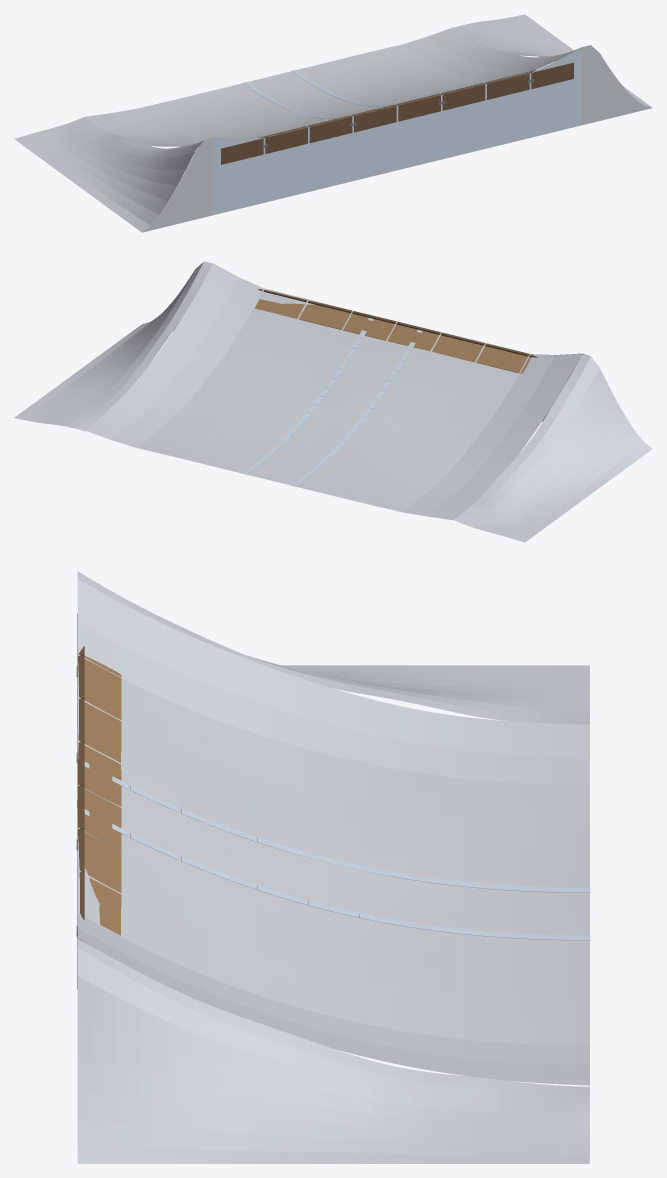
File: kicker.glb
The picture shows the model from 3 angles, top to bottom: view 1: azimuth 30°, elevation 25°; view 2: azimuth 150°, elevation 25°; view 3: azimuth 270°, elevation 25°; orthographic projection. The views are drawn at different scales.
Parts seen in each view (by area): view 1: kicker; view 2: kicker; view 3: kicker.
Part boxes in pixels (x1,y1,x2,y2): kicker: [14, 14, 652, 232]; kicker: [14, 261, 652, 542]; kicker: [76, 571, 590, 1163].
Bounding box in the file's own units: 11.52 × 1.69 × 5.01.
